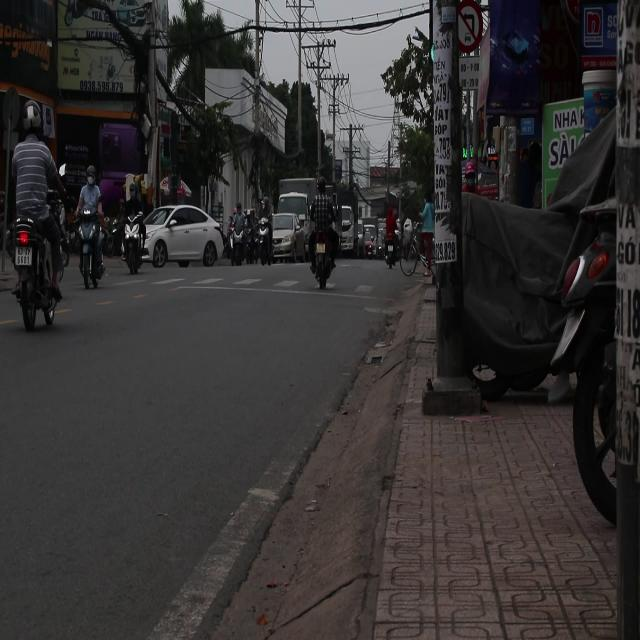car: (144, 205, 226, 268), (270, 213, 302, 260)
motorbike: (5, 215, 63, 333), (73, 210, 107, 290), (120, 208, 146, 275), (310, 226, 332, 296), (226, 220, 249, 266), (253, 216, 273, 266)
truck: (273, 178, 325, 264), (336, 195, 356, 256)
